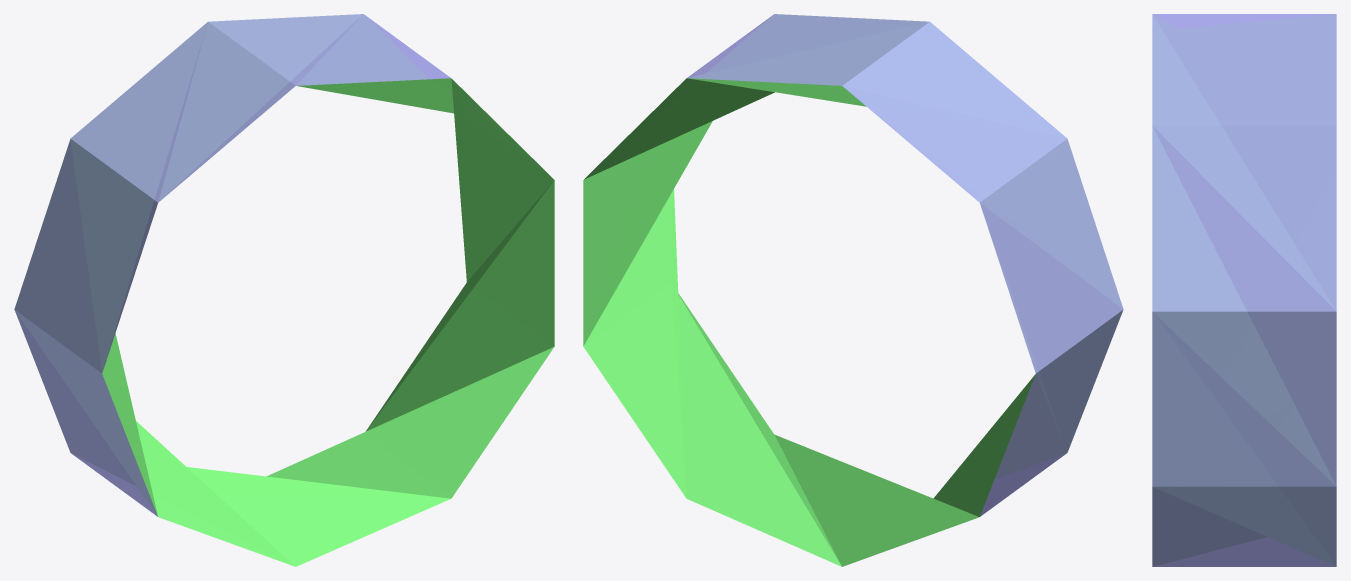
The model's file is EnneagonalIrisToroid2.obj.
The picture shows the model from 3 angles, left to right: view 1: azimuth 30°, elevation 25°; view 2: azimuth 150°, elevation 25°; view 3: azimuth 270°, elevation 25°; orthographic projection. The views are drawn at different scales.
Size of the model in its own units: 2.5 by 2.54 by 0.84.
